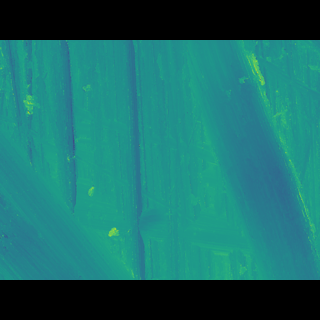Loch: (183, 70, 320, 249), (0, 137, 135, 250)
